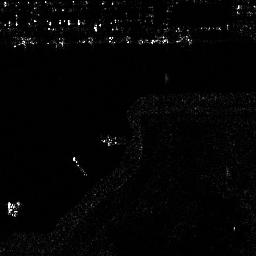l: (11, 34, 67, 50), (13, 35, 66, 49), (71, 154, 89, 178)
ship: (137, 34, 195, 45), (78, 34, 134, 45)
